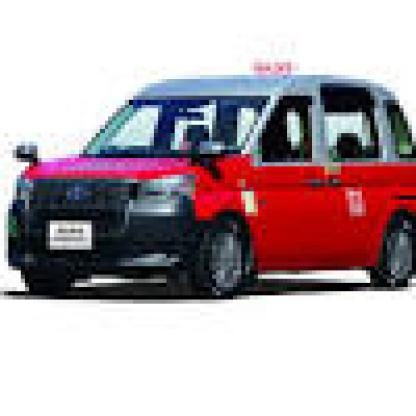taxi: (5, 51, 413, 313)
